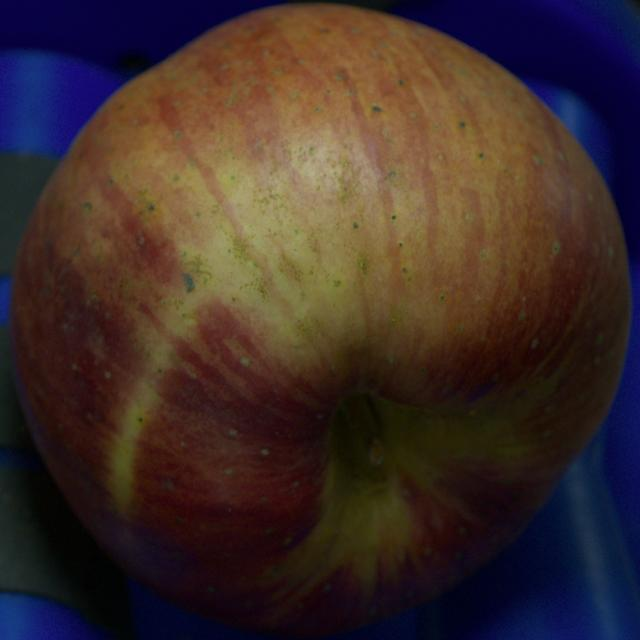apple: (9, 6, 631, 636)
pest: (183, 274, 194, 291), (372, 106, 381, 111)
